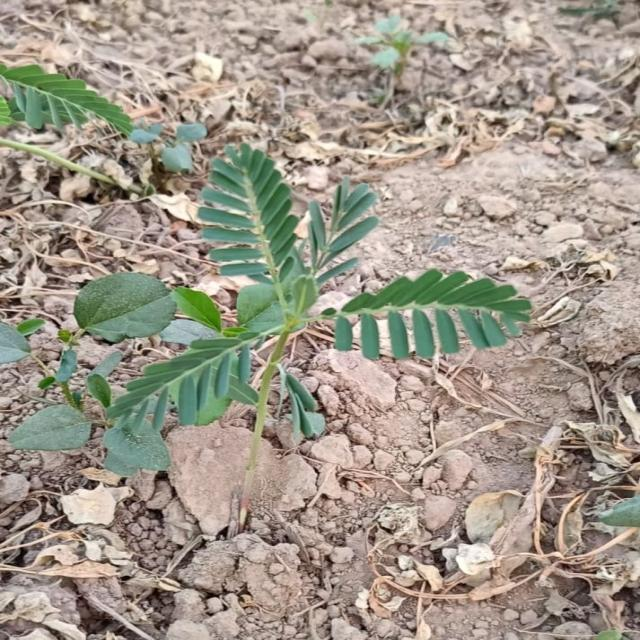plant: (103, 144, 531, 523)
